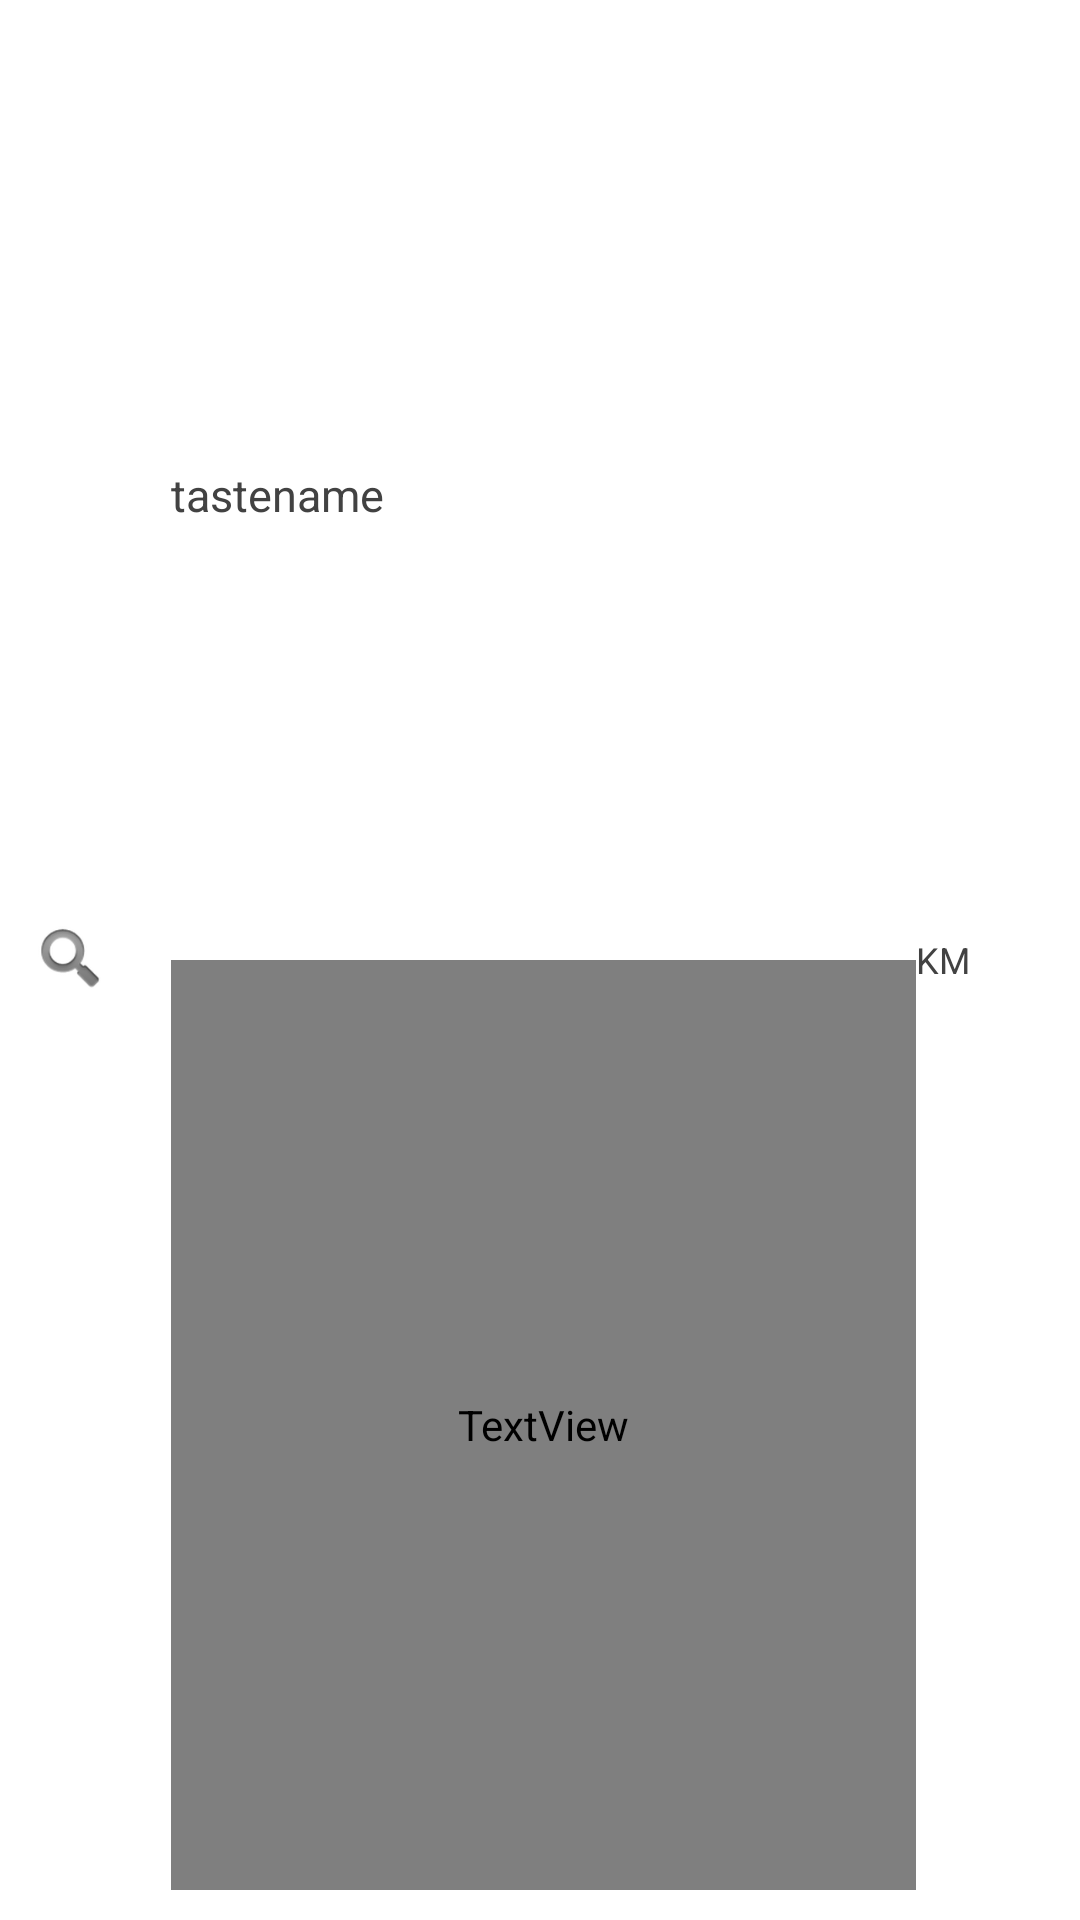

Icon click points for this 1080px×1920px phone screenshot, format [x,y]:
search category: [70,958]
